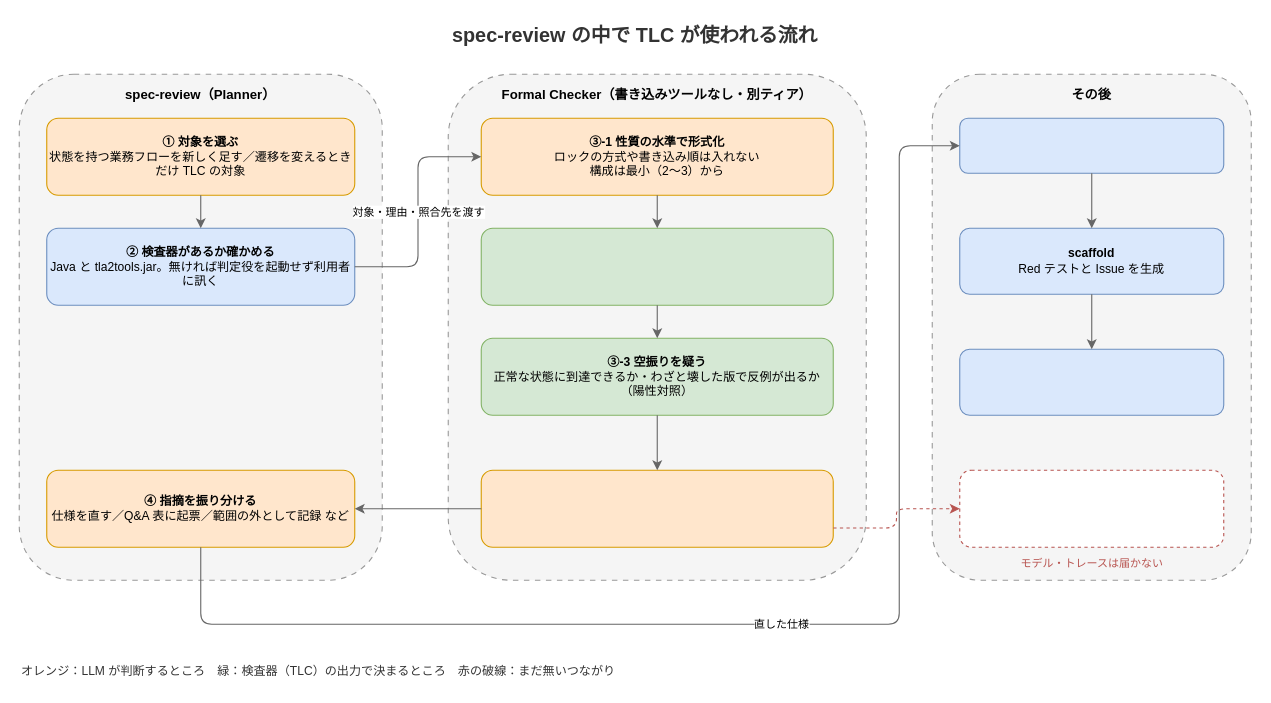
This 1271x703 diagram has some shape labels left out. Each missing label, with the centre of its shape:
"dev-loop Issue 1 件ずつ実装・検証" belongs at (x=1091, y=381).
"spec/formal/ （置き場所は決まっているが、保存する手順が無い）" belongs at (x=1091, y=508).
"③-2 TLC で検査 モデルは $TMPDIR に書いて走らせる。時間を区切り、超えたら判定できなかった" belongs at (x=656, y=266).
"③-4 報告 反例なし／反例あり／判定できなかった。反例ごとに頻度と影響、モデルの全文" belongs at (x=656, y=508).
"仕様（性質とテスト）" belongs at (x=1091, y=145).
